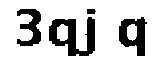3: (13, 6, 44, 50), (49, 14, 78, 59)
j: (77, 3, 103, 60)
q: (115, 12, 150, 60)
